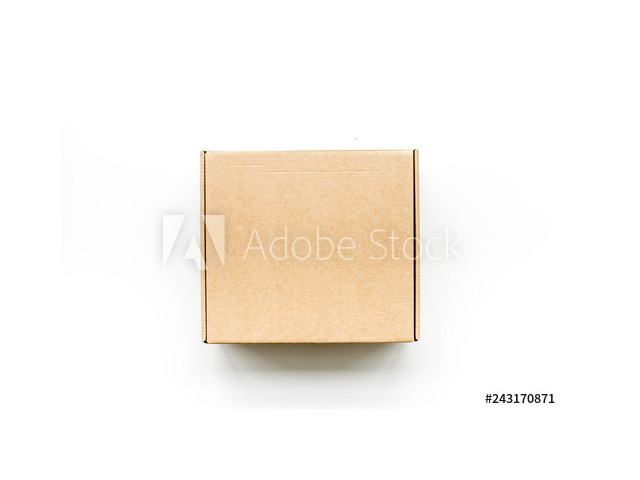cardboard: (199, 148, 420, 346)
